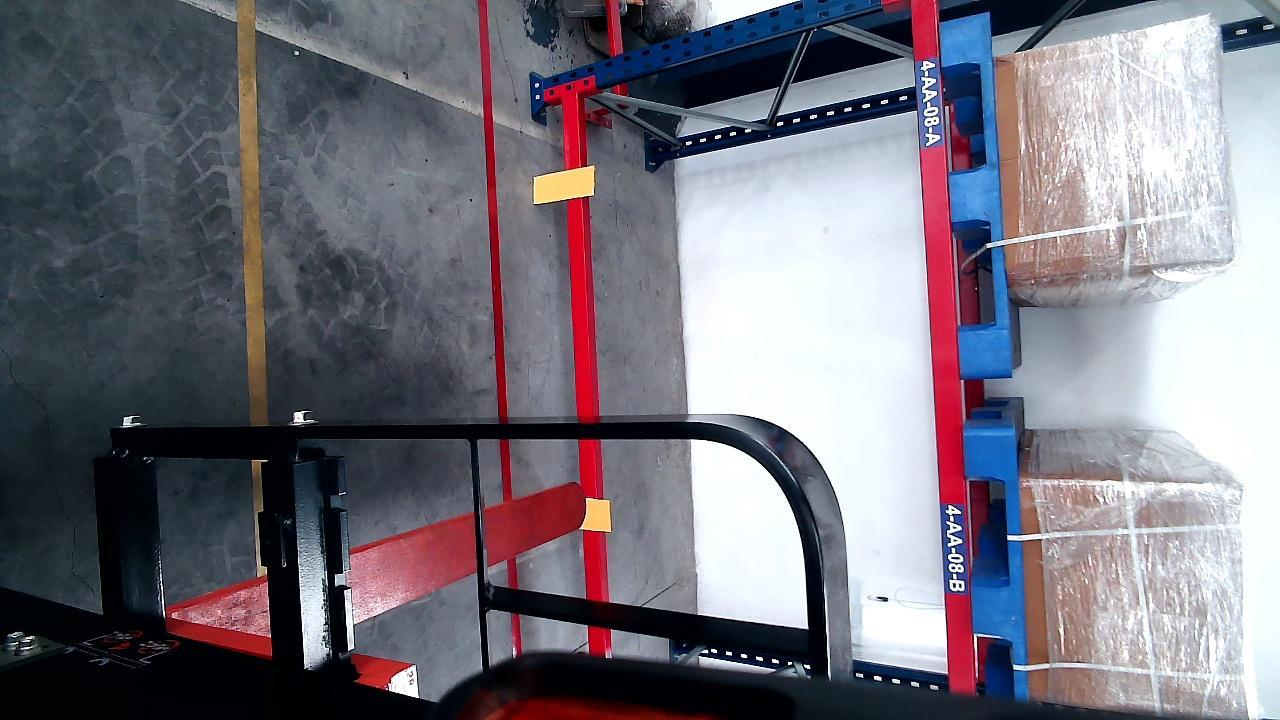red_line: (478, 0, 524, 657)
yellow_line: (240, 0, 267, 415)
